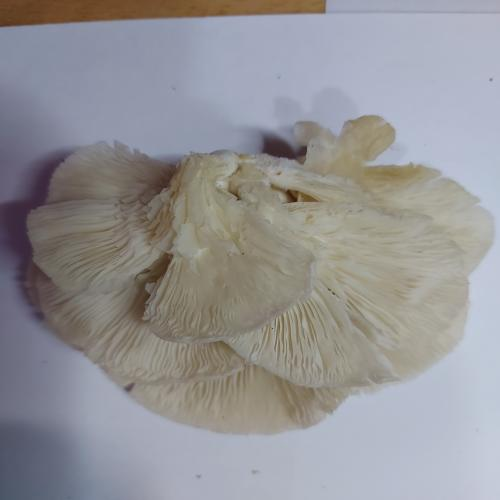Oyster Mushroom: (23, 114, 495, 435)
